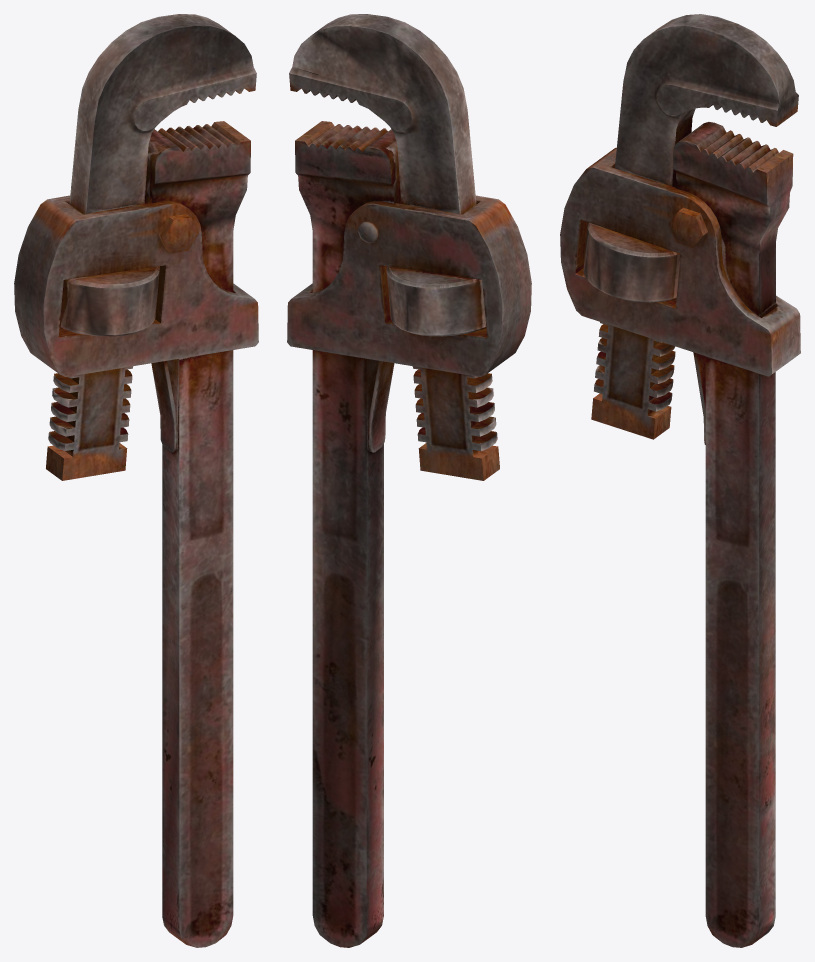
The model's file is pipe_wrench_2.glb.
3 renders of one model, left to right at view 1: azimuth 30°, elevation 25°; view 2: azimuth 150°, elevation 25°; view 3: azimuth 330°, elevation 25°, orthographic.
Visible parts, largest first — view 1: pipe_wrench_2; view 2: pipe_wrench_2; view 3: pipe_wrench_2.
Part boxes in pixels (bbox=[...]): pipe_wrench_2: bbox=[14, 14, 258, 947]; pipe_wrench_2: bbox=[287, 14, 531, 947]; pipe_wrench_2: bbox=[560, 14, 800, 947].
Size of what is drawn, in the model's own units: 0.1084 by 0.4411 by 0.051.
1 material, 1 textured.
